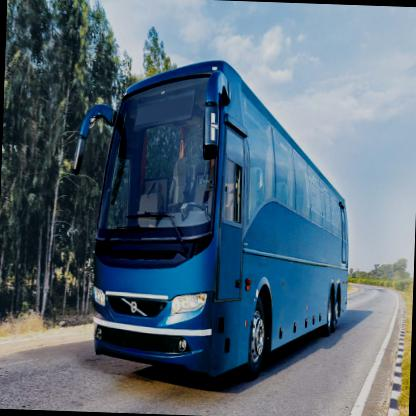bus: (272, 28, 394, 188)
